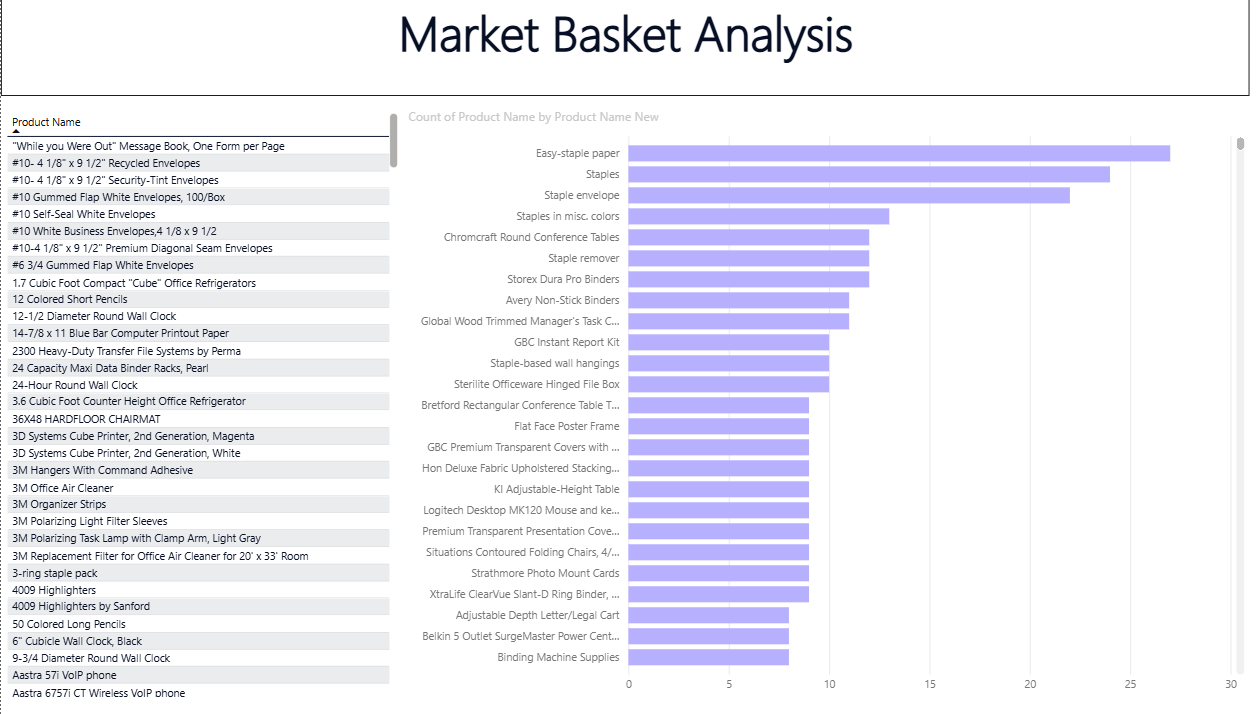

The dashboard page shown, as its layout file describes it:
{"tool":"powerbi","page":{"name":"Market Basket Analysis","canvas":[1280,720],"ordinal":2},"visuals":[{"type":"textbox","box":[0,0,1242.2,102.2],"z":0},{"type":"tableEx","fields":{"Values":["SuperStore_Sales_Dataset (2).Product Name"]},"box":[0,114.4,400.6,590.9],"z":1000},{"type":"barChart","fields":{"Category":["SuperstoreNew.Product Name"],"Y":["CountNonNull(SuperstoreNew.Product Name)"]},"box":[400.6,114.4,842.2,590.9],"z":2000}]}

Visuals, with their boxes in screenshot pixels (x1, y1, x2, y2), scaled from the page's 1280x720 canvas onto the 1256x714 screenshot:
textbox: <box>0,0,1219,101</box>
tableEx - SuperStore_Sales_Dataset (2).Product Name: <box>0,113,393,699</box>
barChart - SuperstoreNew.Product Name x CountNonNull(SuperstoreNew.Product Name): <box>393,113,1219,699</box>
